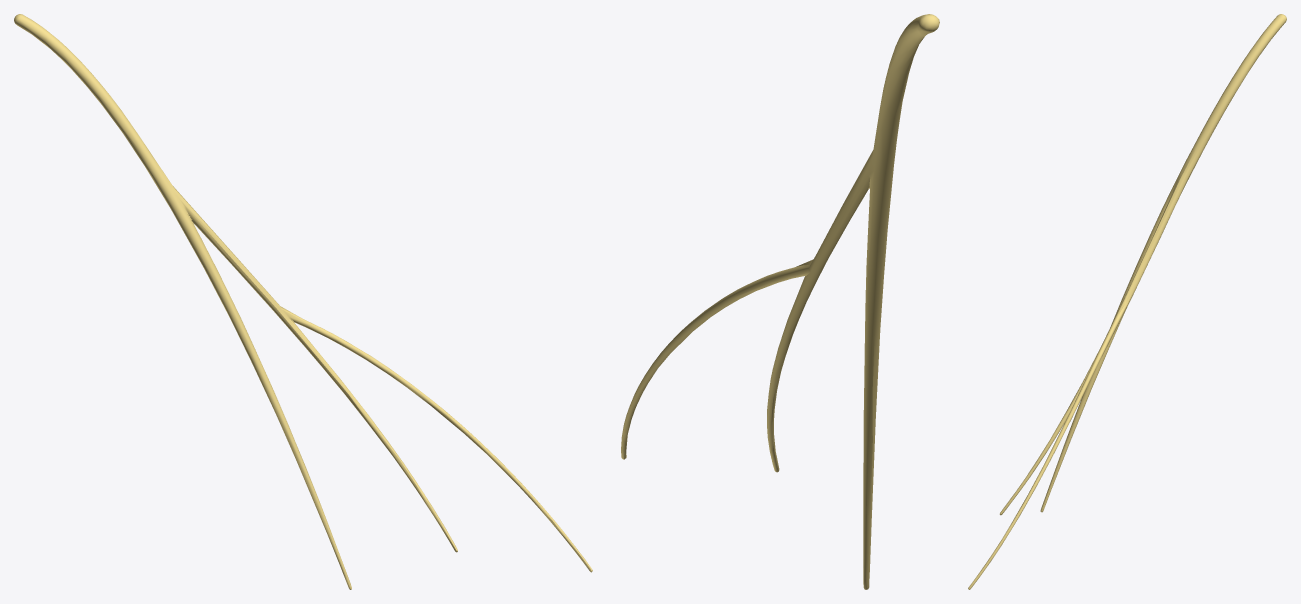
File: fma52941_fj3892.glb
The picture shows the model from 3 angles, left to right: view 1: azimuth 30°, elevation 25°; view 2: azimuth 150°, elevation 25°; view 3: azimuth 270°, elevation 25°; orthographic projection. The views are drawn at different scales.
Visible parts, largest first — view 1: FMA52941_FJ3892; view 2: FMA52941_FJ3892; view 3: FMA52941_FJ3892.
Boxes of the visible parts, left/top/right/bottom form: FMA52941_FJ3892: left=14, top=14, right=592, bottom=589; FMA52941_FJ3892: left=621, top=14, right=939, bottom=589; FMA52941_FJ3892: left=968, top=14, right=1286, bottom=589.
Bounding box in the file's own units: 0.0259 × 0.0327 × 0.0223.
